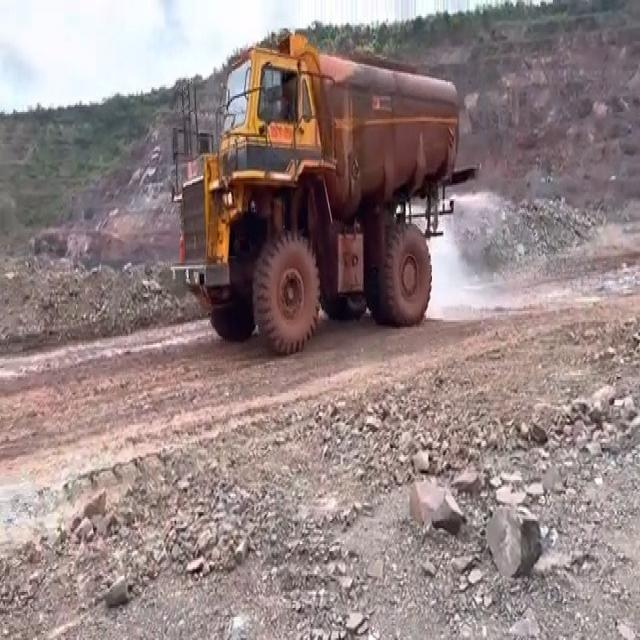dump_truck: (168, 26, 459, 347)
